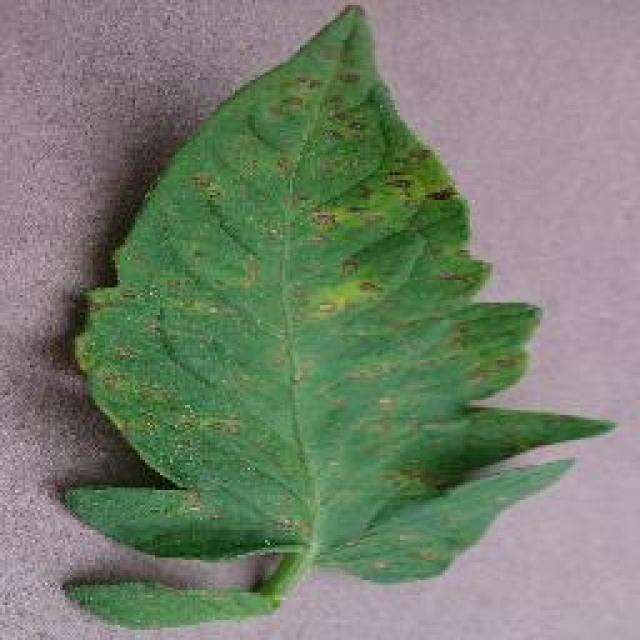Tom_Septoria_leaf_spot: (285, 253, 515, 467), (82, 252, 266, 470), (257, 56, 438, 240)
